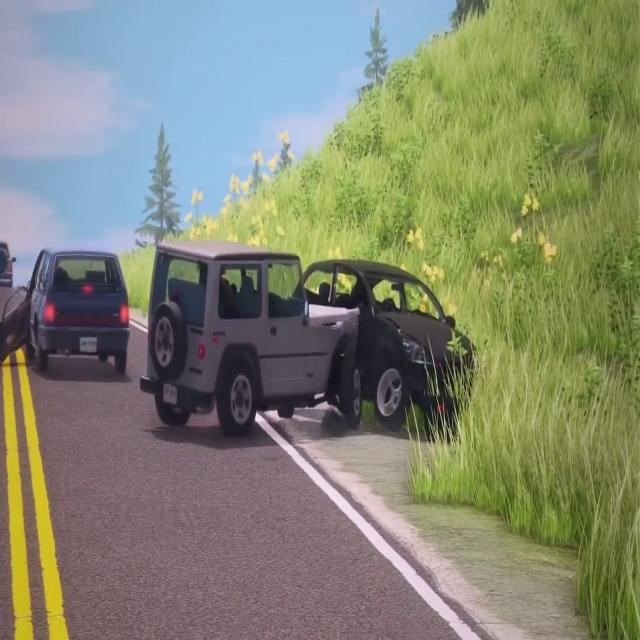accident: (139, 236, 483, 434)
